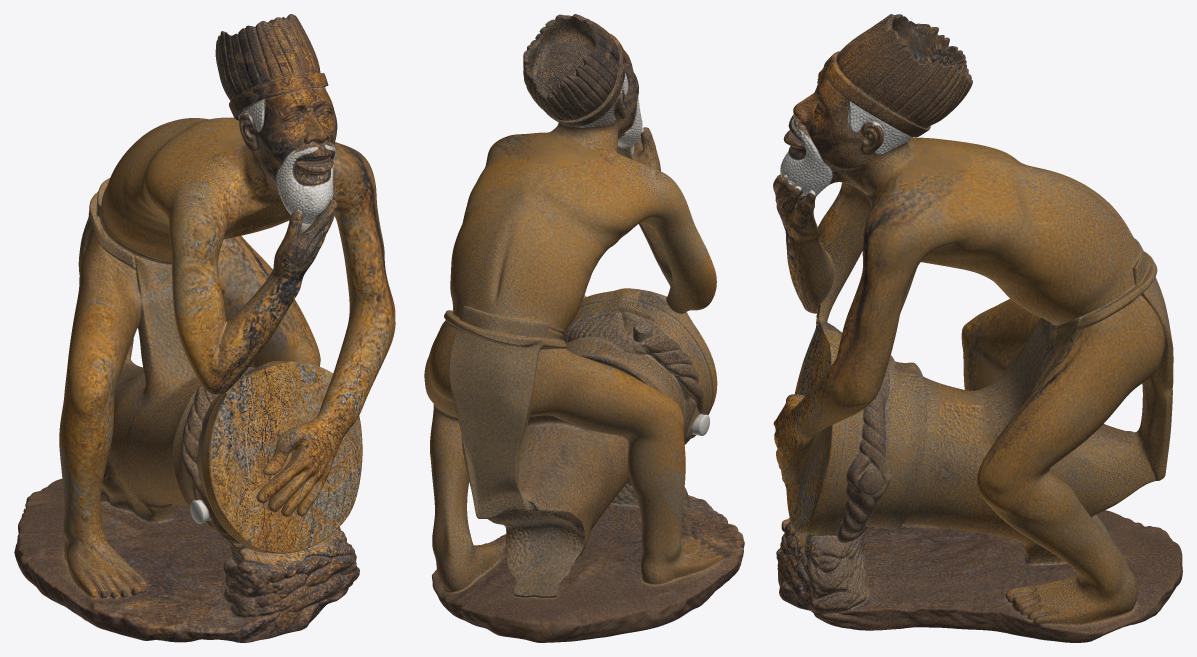
File: celebration-uploaded-v1.glb
3 renders of one model, left to right at view 1: azimuth 30°, elevation 25°; view 2: azimuth 150°, elevation 25°; view 3: azimuth 270°, elevation 25°, orthographic. The views are drawn at different scales.
Bounding box in the file's own units: 1.01 × 1.9 × 1.19.
Materials: 1 (1 with a texture image).
